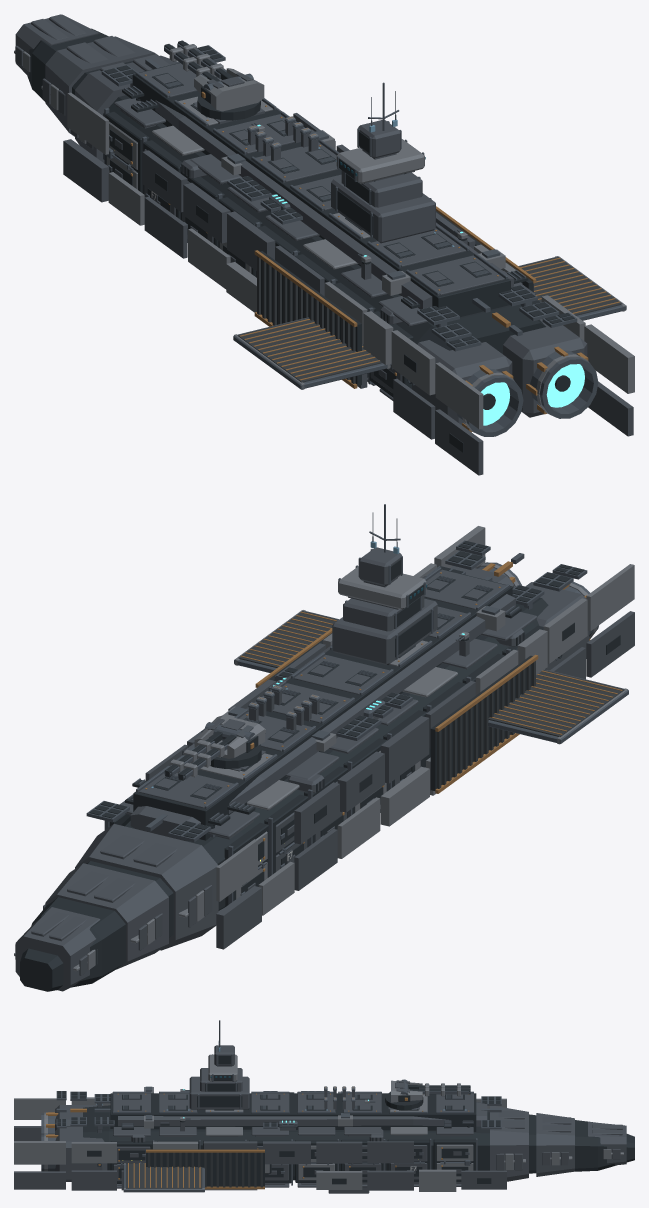
Rendered from earth_starter_escort.glb.
The picture shows the model from 3 angles, top to bottom: view 1: azimuth 30°, elevation 25°; view 2: azimuth 150°, elevation 25°; view 3: azimuth 270°, elevation 25°; orthographic projection. The views are drawn at different scales.
Visible parts, largest first — view 1: FleetHull, mesh_turret_gun_1, mesh_recoil_gun_1; view 2: FleetHull, mesh_recoil_gun_1, mesh_turret_gun_1; view 3: FleetHull, mesh_recoil_gun_1, mesh_turret_gun_1.
Boxes of the visible parts, x1,y1,x2,y2 form: FleetHull: (14, 14, 634, 475); mesh_turret_gun_1: (194, 68, 264, 111); mesh_recoil_gun_1: (164, 40, 253, 90); FleetHull: (14, 504, 634, 991); mesh_recoil_gun_1: (164, 722, 254, 780); mesh_turret_gun_1: (194, 715, 265, 758); FleetHull: (14, 1020, 634, 1193); mesh_recoil_gun_1: (400, 1079, 470, 1096); mesh_turret_gun_1: (391, 1080, 422, 1102).
Bounding box in the file's own units: 97.6 × 79.6 × 269.
